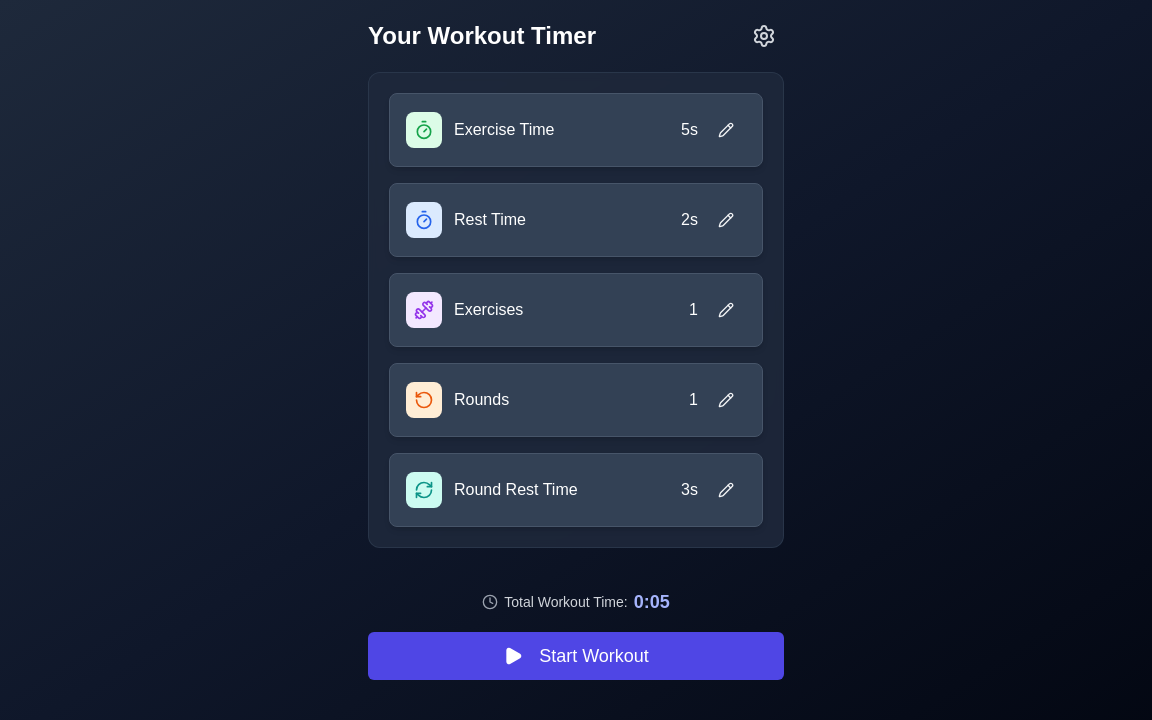
Test: Workout Flow › should complete the workout and show completion screen
The image size is (1152, 720).
Click Start button
Click the button "Start Workout" at (576, 656), box [368,632,784,680]
Wait 14000 ms
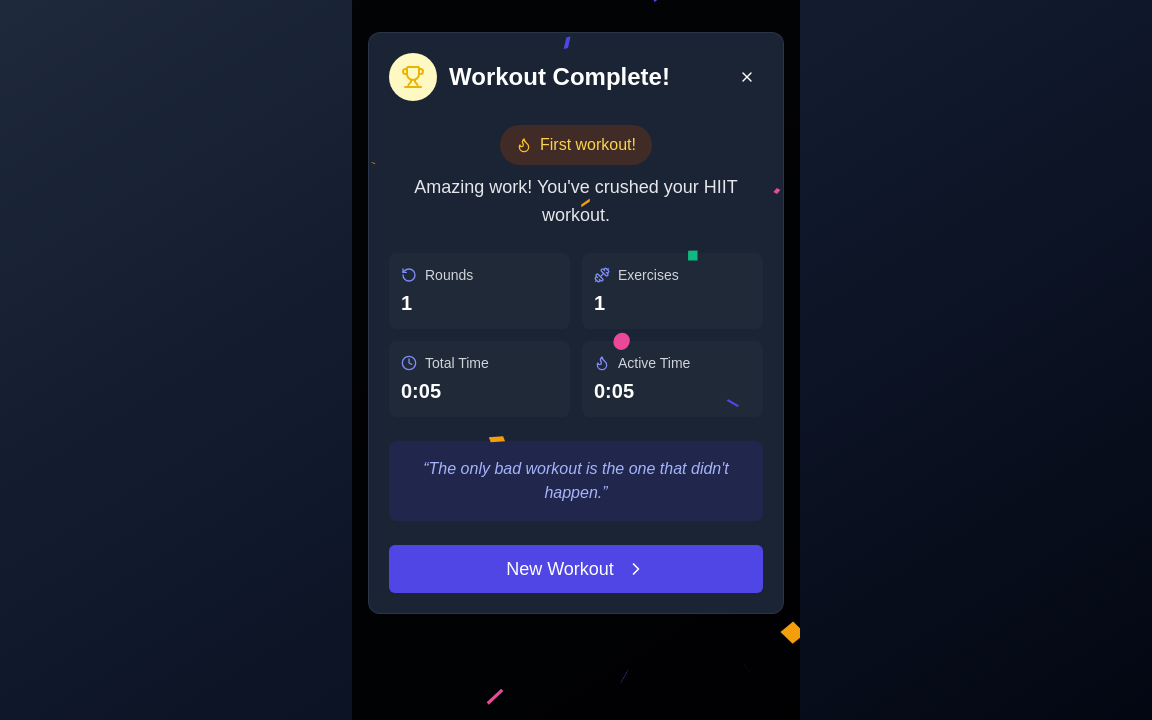
Check: the heading "Workout Complete!" is shown, box [449,61,670,93]
